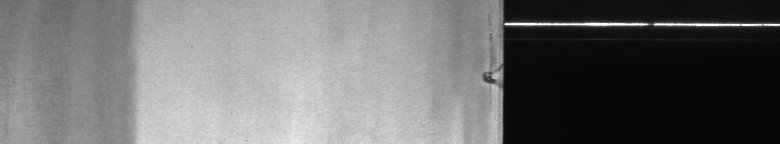hb: (477, 14, 492, 92)
